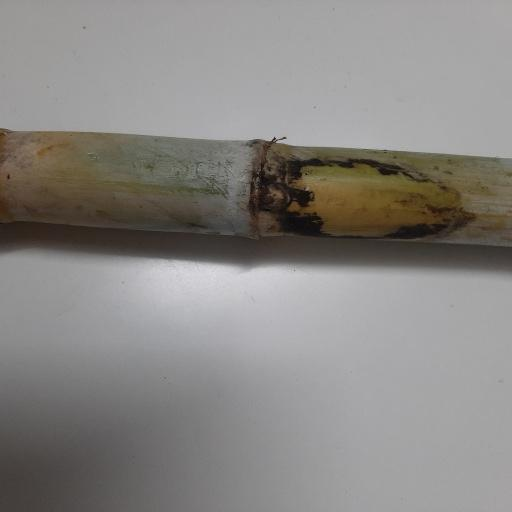Bud: (259, 181, 292, 211)
